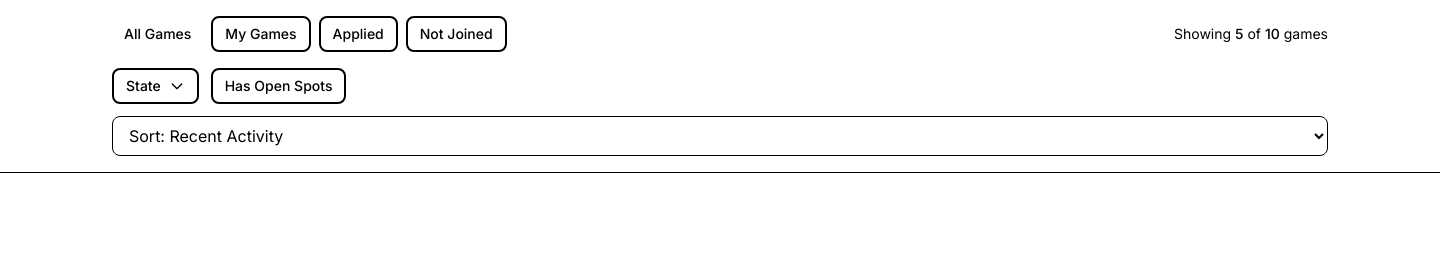
FilterBar › State Dropdown › opens dropdown when state button clicked
Click the button "State": (155, 86) [112,68,199,104]
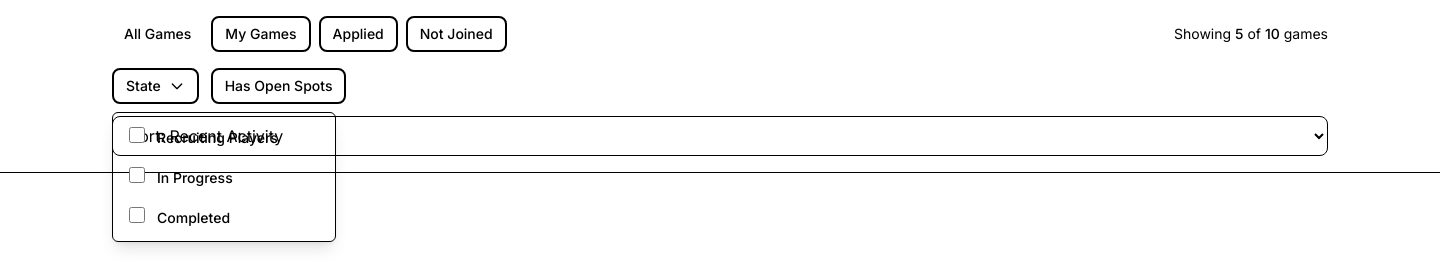
Result: the checkbox labelled "Recruiting Players" is shown at [129,127,145,143]
Result: the checkbox labelled "In Progress" is shown at [129,167,145,183]
Result: the checkbox labelled "Completed" is shown at [129,207,145,223]
